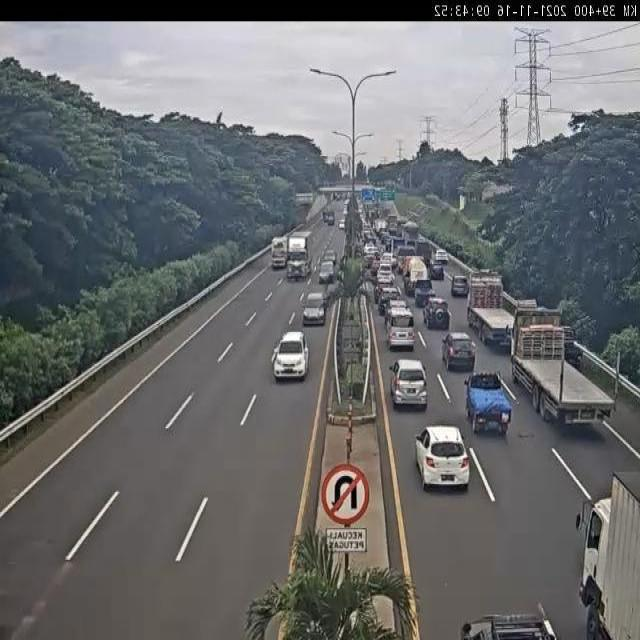Car: (415, 425, 471, 491), (458, 604, 560, 640), (464, 371, 512, 435), (272, 330, 311, 382), (389, 359, 429, 409), (441, 331, 475, 372), (385, 307, 416, 350), (423, 298, 451, 330), (302, 292, 327, 326), (376, 286, 400, 315), (413, 280, 436, 308), (450, 274, 469, 297), (318, 260, 335, 284), (428, 259, 446, 280), (377, 271, 394, 292), (380, 252, 396, 270), (434, 249, 448, 266), (369, 258, 382, 276), (364, 242, 376, 258)
Truck: (509, 307, 618, 426), (580, 461, 640, 640), (467, 271, 517, 346), (401, 251, 432, 296), (286, 228, 311, 280), (270, 235, 288, 269)
